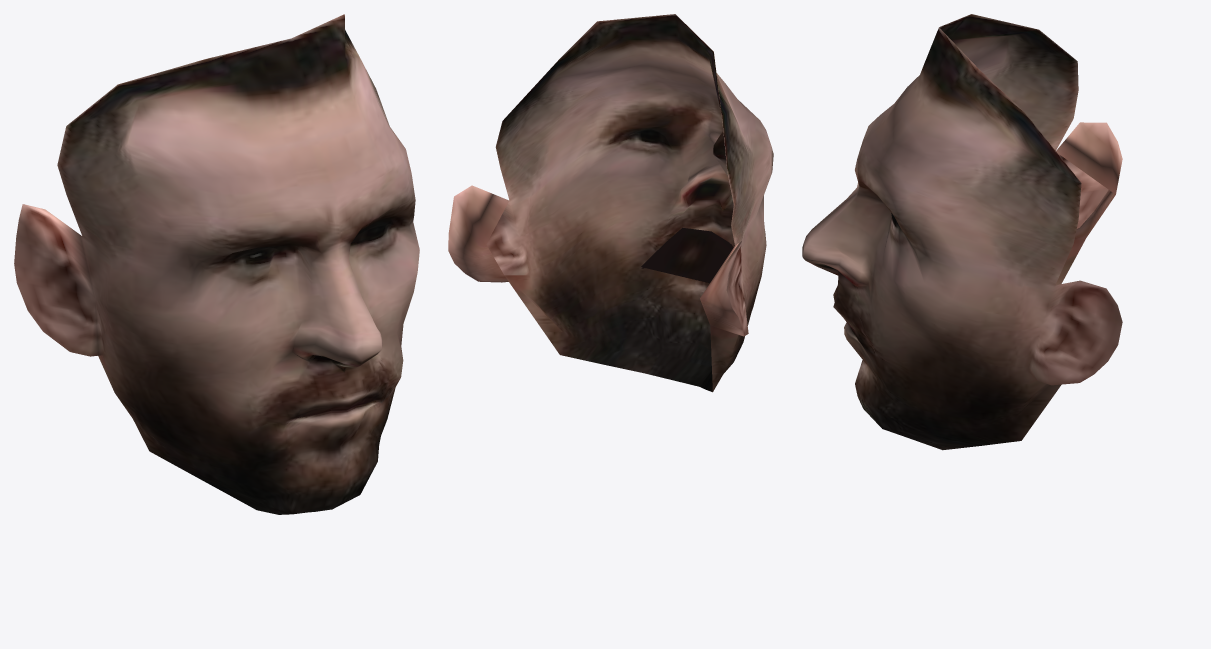
The model's file is arg-messi.glb.
The picture shows the model from 3 angles, left to right: view 1: azimuth 30°, elevation 25°; view 2: azimuth 150°, elevation 25°; view 3: azimuth 270°, elevation 25°; orthographic projection. The views are drawn at different scales.
Parts seen in each view (by area): view 1: arg-messi; view 2: arg-messi; view 3: arg-messi.
Boxes of the visible parts, x1=… form: arg-messi: x1=14, y1=14, x2=419, y2=514; arg-messi: x1=448, y1=14, x2=773, y2=392; arg-messi: x1=802, y1=14, x2=1122, y2=450.
Size of the model in its own units: 0.172 by 0.3121 by 0.1844.
1 material, 1 textured.
